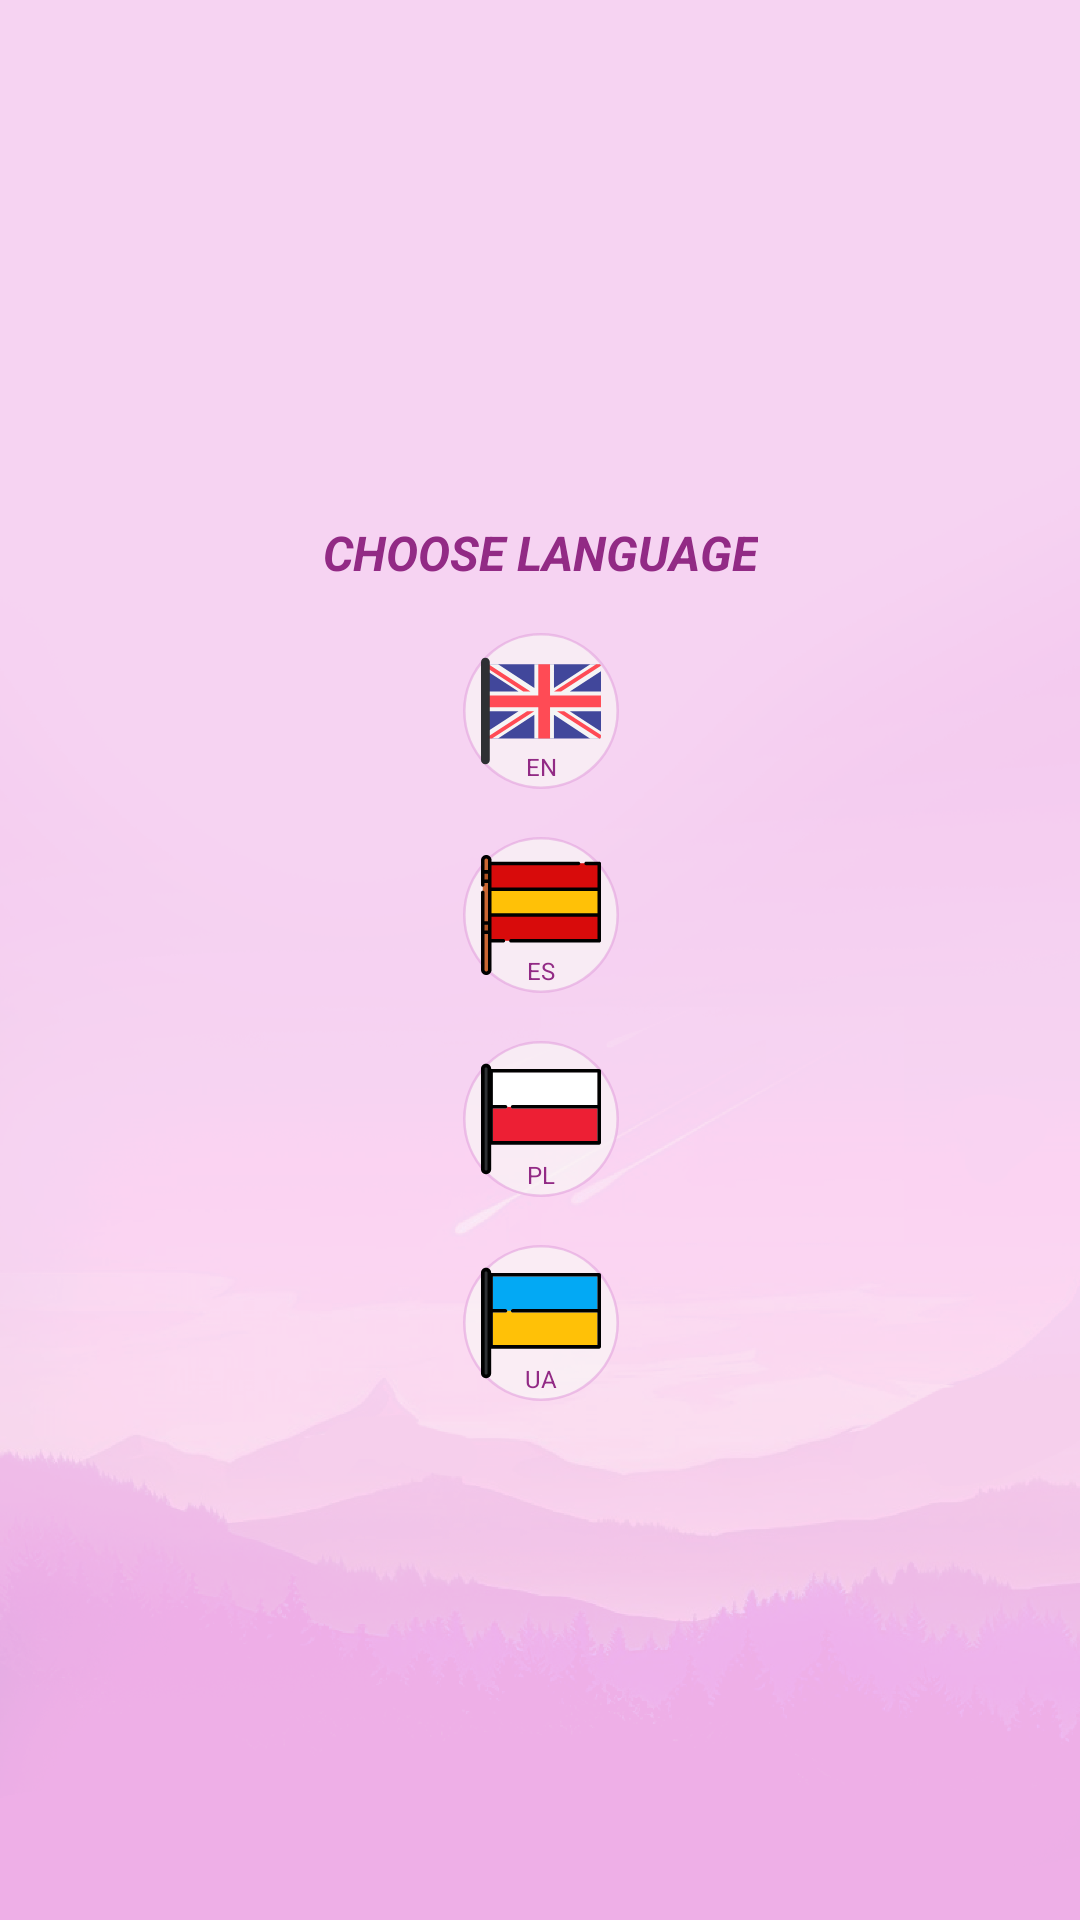

Icons on this 1080 x 1920 Android screen, each with its box as (x1, y1, x2, y2):
poland: (481, 1059, 601, 1179)
spain: (481, 855, 601, 975)
ukraine: (481, 1263, 601, 1383)
united kingdom: (481, 651, 601, 771)
